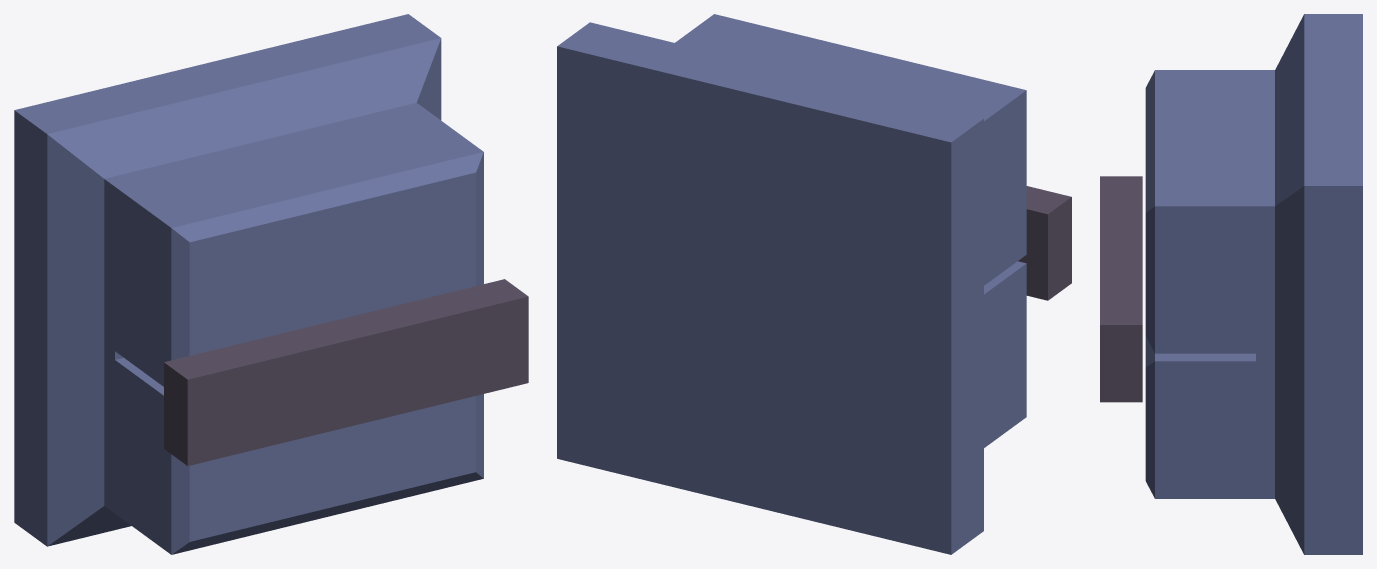
Rendered from Fuse.fbx.
The picture shows the model from 3 angles, left to right: view 1: azimuth 30°, elevation 25°; view 2: azimuth 150°, elevation 25°; view 3: azimuth 270°, elevation 25°; orthographic projection. The views are drawn at different scales.
Parts seen in each view (by area): view 1: Fuse; view 2: Fuse; view 3: Fuse.
Part boxes in pixels (x1,y1,x2,y2): Fuse: (14, 14, 528, 554); Fuse: (557, 14, 1071, 554); Fuse: (1100, 14, 1362, 554).
Bounding box in the file's own units: 0.7631 × 0.4929 × 0.7631.
